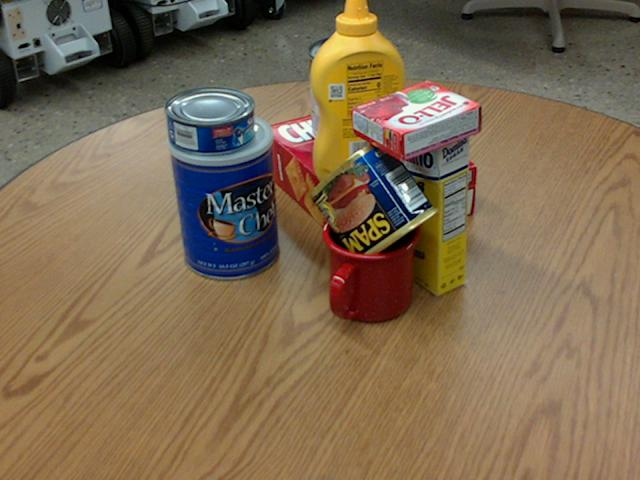cracker_box: (260, 97, 474, 253)
gelatin_box: (352, 81, 481, 161)
large_marker: (235, 109, 258, 210)
master_chef_can: (166, 110, 280, 278)
mug: (320, 207, 419, 324)
mustard_bottle: (310, 0, 405, 186)
potted_meat_can: (309, 139, 439, 268)
sugar_box: (377, 96, 469, 298)
tomato_soup_can: (307, 37, 367, 142)
tuna_fish_can: (163, 86, 254, 154)
